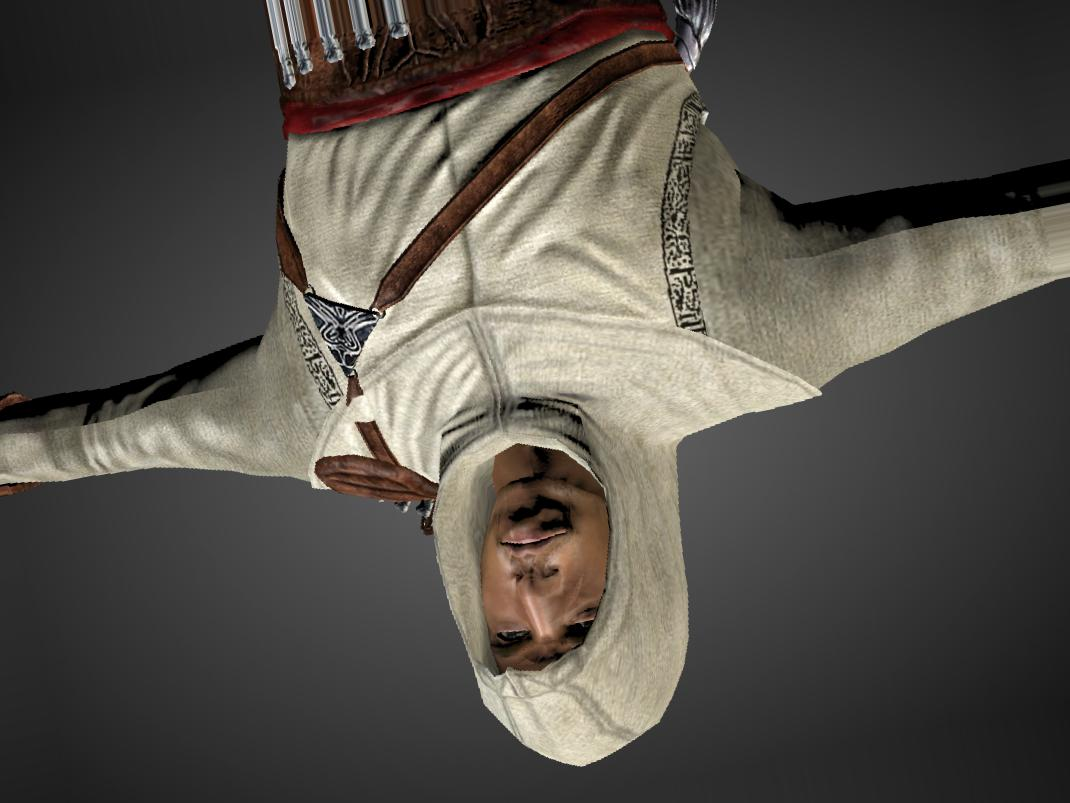clip: (344, 388, 380, 427)
